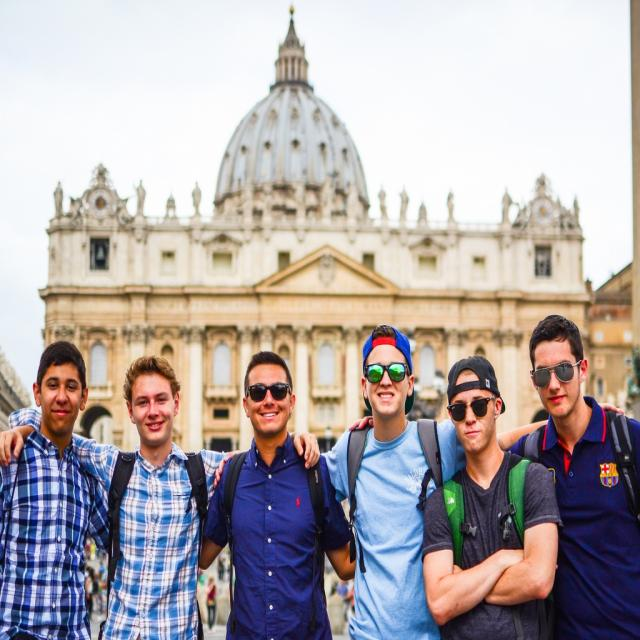body: (206, 317, 634, 639), (345, 309, 639, 639), (0, 348, 327, 639), (198, 348, 358, 640), (38, 157, 588, 241), (417, 352, 567, 639), (0, 340, 112, 640), (66, 521, 118, 640), (198, 546, 244, 640), (324, 566, 370, 638)
